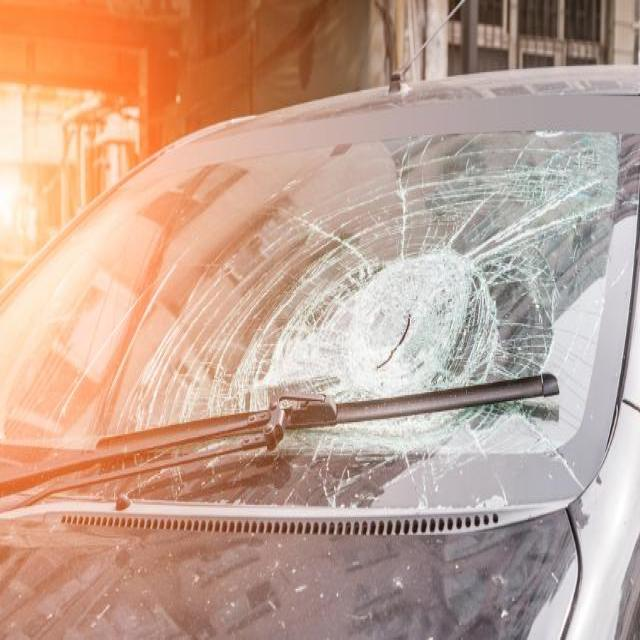Dent: (458, 415, 503, 503), (608, 245, 631, 288), (92, 601, 110, 620), (345, 557, 364, 571), (489, 571, 505, 586), (294, 581, 306, 592), (548, 568, 558, 581), (267, 598, 276, 611), (595, 472, 603, 484), (44, 611, 52, 619)
